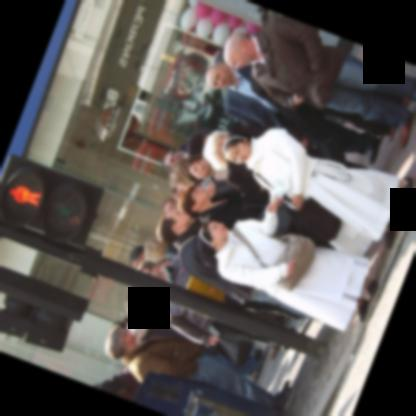handbag: (232, 225, 315, 291), (283, 197, 341, 244), (306, 134, 347, 162)
